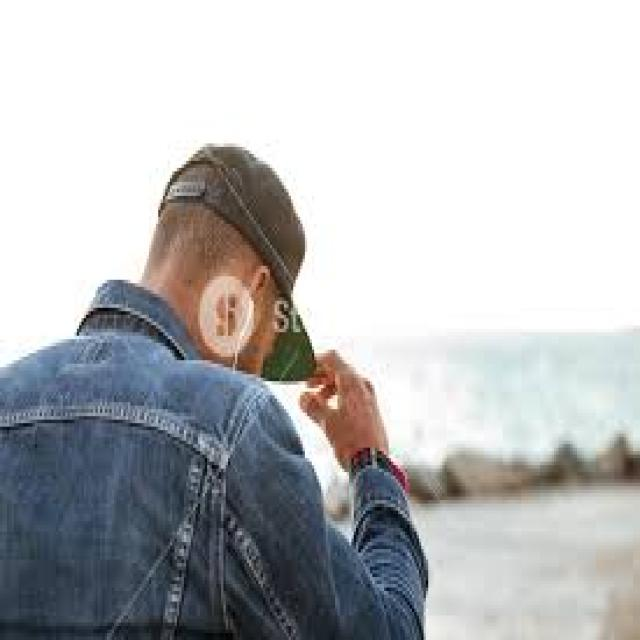cap: (146, 143, 318, 392)
